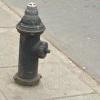a fire hydrant: (19, 10, 48, 88)
